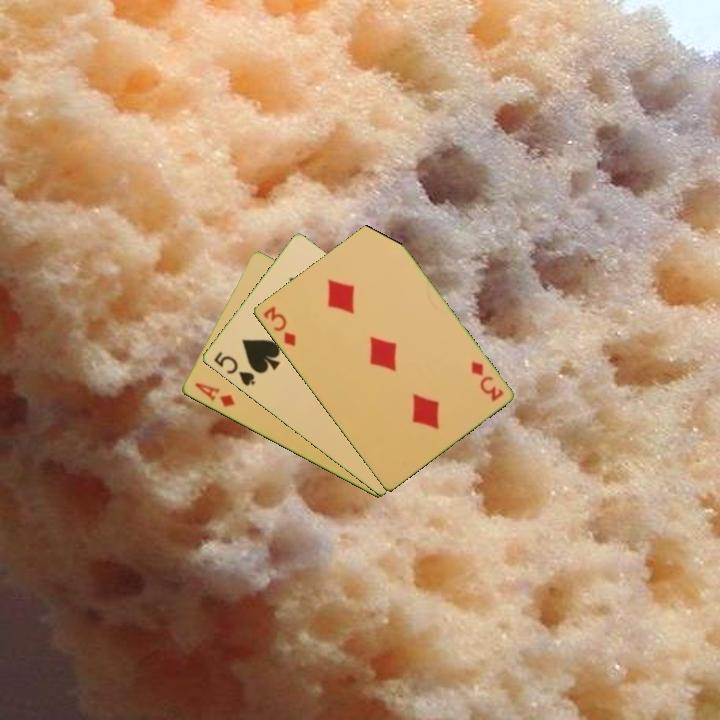3d: (259, 302, 299, 349), (467, 357, 506, 404)
5s: (210, 348, 258, 389)
Ad: (191, 379, 238, 410)
